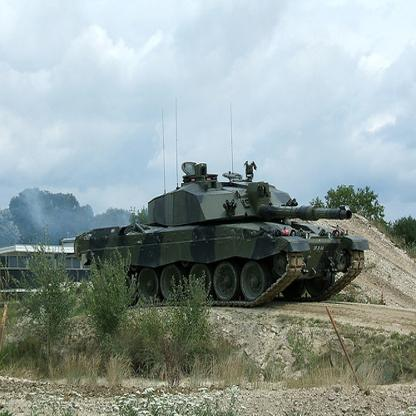Tank: (65, 152, 371, 329)
